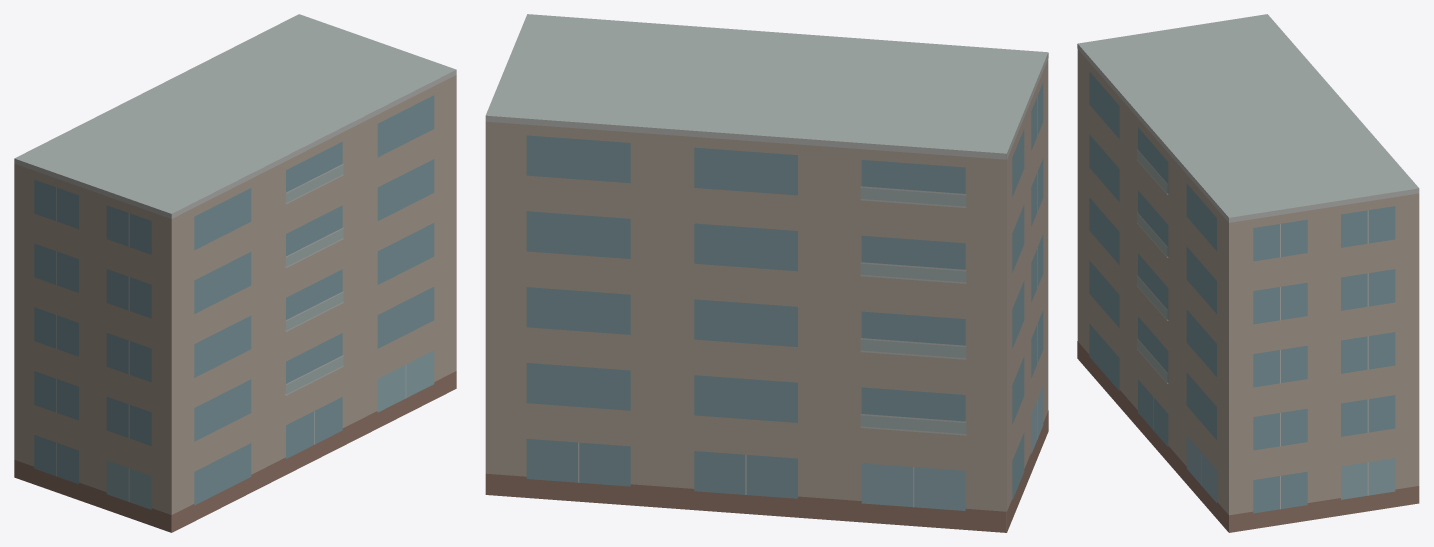
The model's file is residential-f0c73514-d93f-4470-b433-5846f0e52bfd.glb.
The picture shows the model from 3 angles, left to right: view 1: azimuth 30°, elevation 25°; view 2: azimuth 150°, elevation 25°; view 3: azimuth 270°, elevation 25°; orthographic projection. The views are drawn at different scales.
Parts seen in each view (by area): view 1: residential-f0c73514-d93f-4470-b433-5846f0e52bfd.tmp; view 2: residential-f0c73514-d93f-4470-b433-5846f0e52bfd.tmp; view 3: residential-f0c73514-d93f-4470-b433-5846f0e52bfd.tmp.
Part boxes in pixels (<box>): residential-f0c73514-d93f-4470-b433-5846f0e52bfd.tmp: <box>14,14,456,532</box>; residential-f0c73514-d93f-4470-b433-5846f0e52bfd.tmp: <box>485,14,1048,532</box>; residential-f0c73514-d93f-4470-b433-5846f0e52bfd.tmp: <box>1077,14,1419,532</box>.
Bounding box in the file's own units: 21.17 × 15.25 × 15.01.
